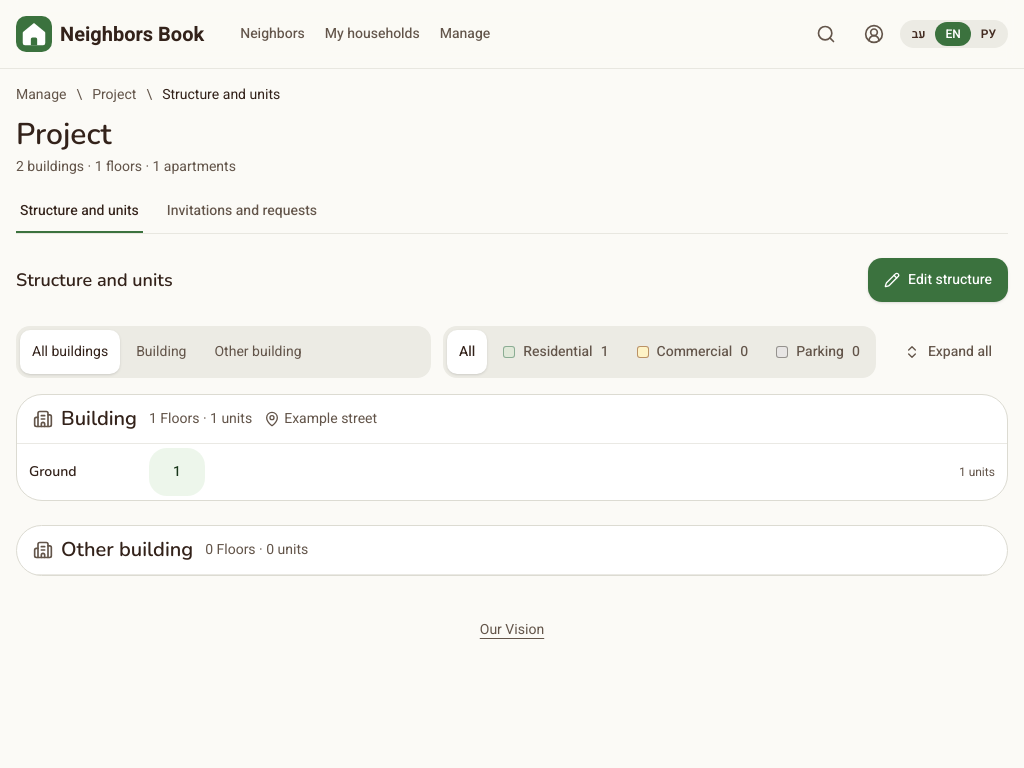
Test: shows all authorized buildings by default without forcing a selection
What coordinates should you click on to do the following:
click the button "Edit structure"
I would click on:
 (938, 280)
Its box is x1=868 y1=258 x2=1008 y2=302.
(page scrolled)
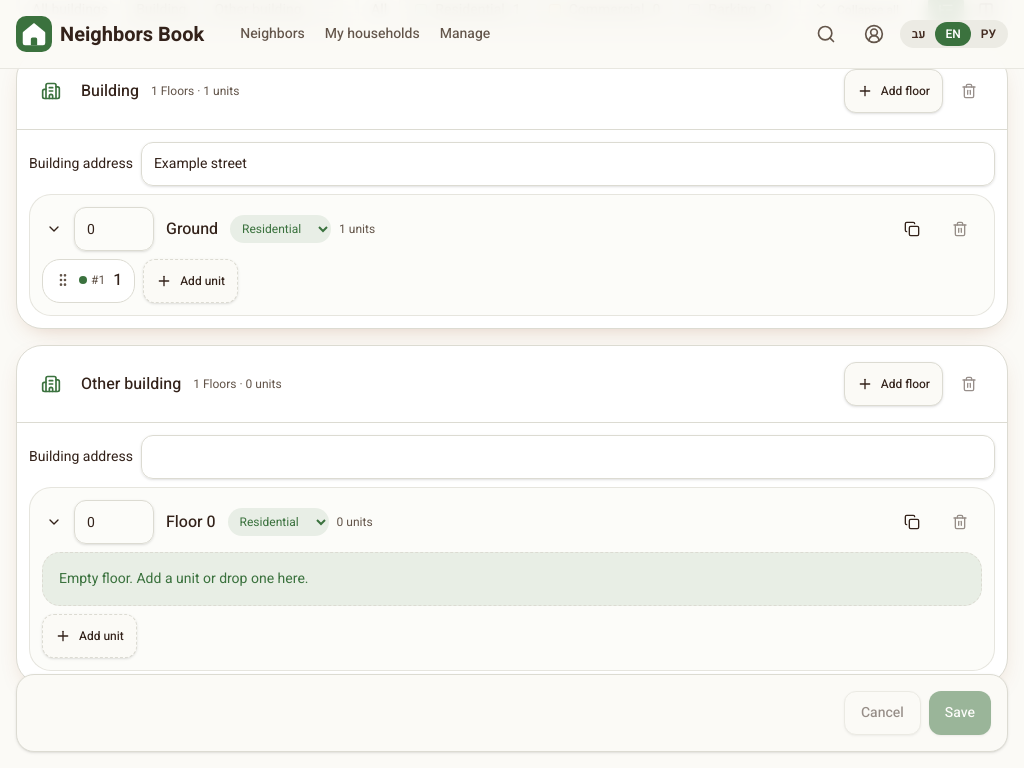
Expected: the button with aria-label "Add floor Building" is shown, x1=844 y1=69 x2=943 y2=113
Expected: the button with aria-label "Add floor Other building" is shown, x1=844 y1=362 x2=943 y2=406
